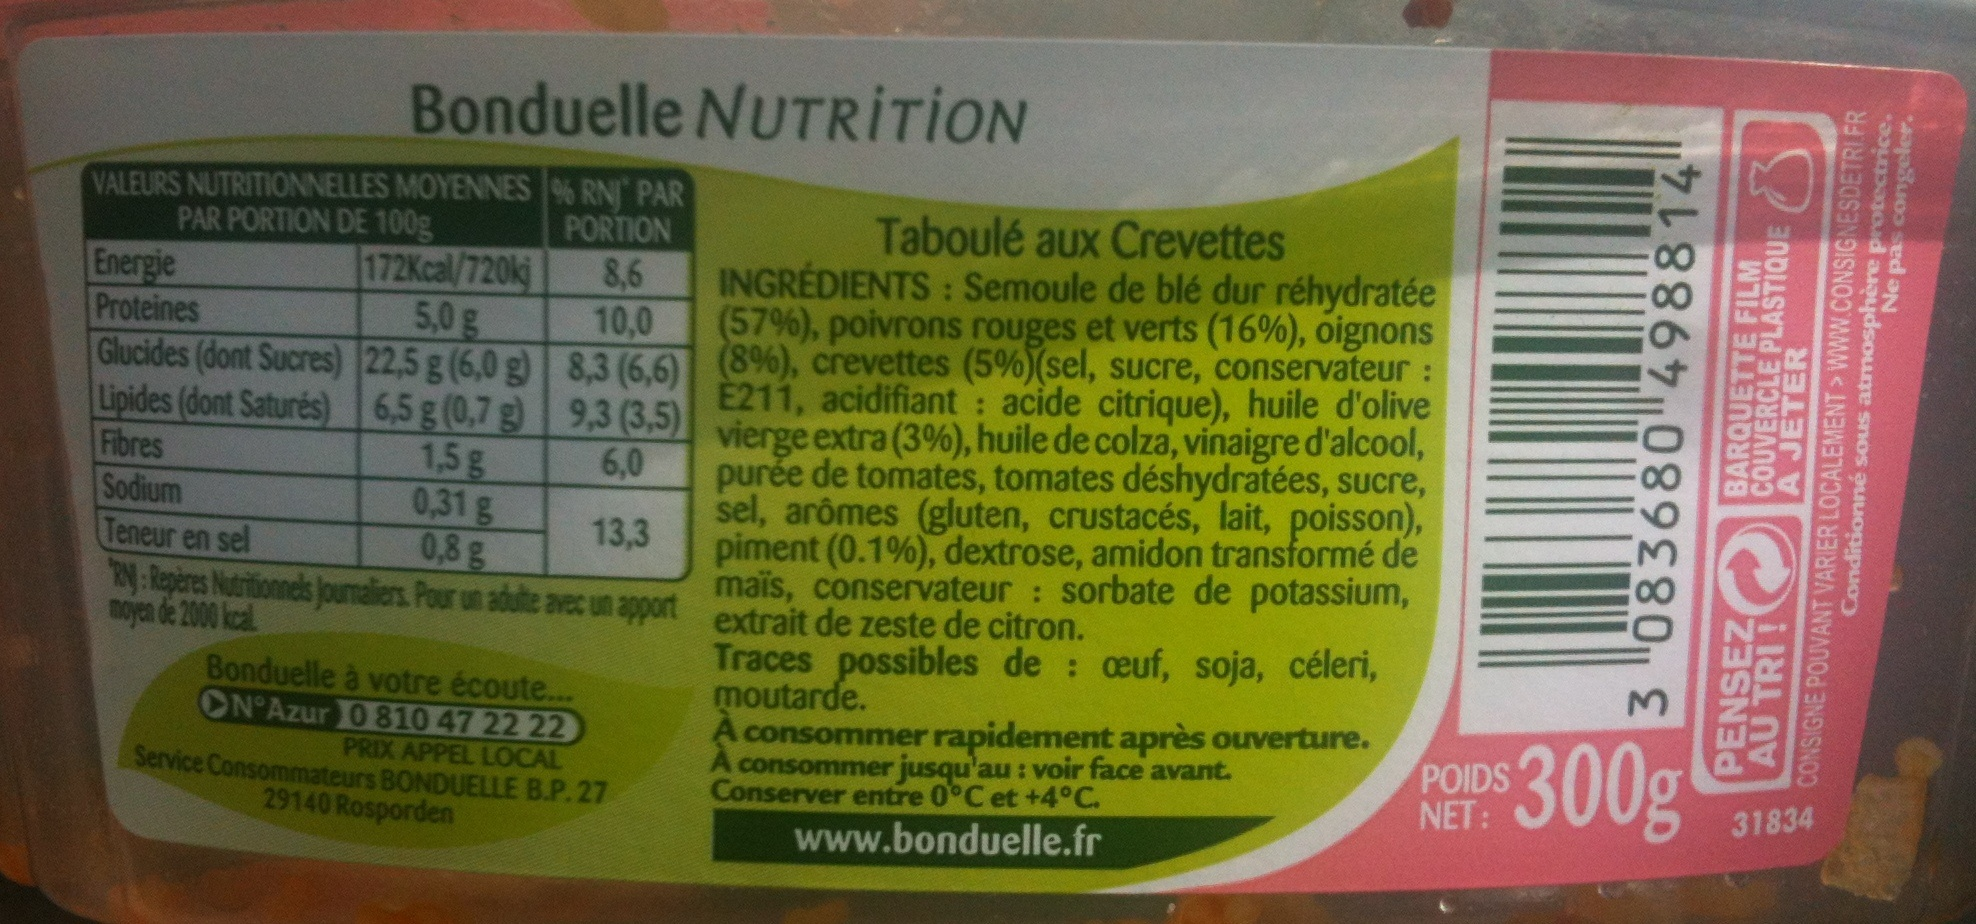column: (92, 245, 348, 558), (363, 250, 534, 567), (554, 174, 683, 553)
table: (74, 156, 699, 586)
